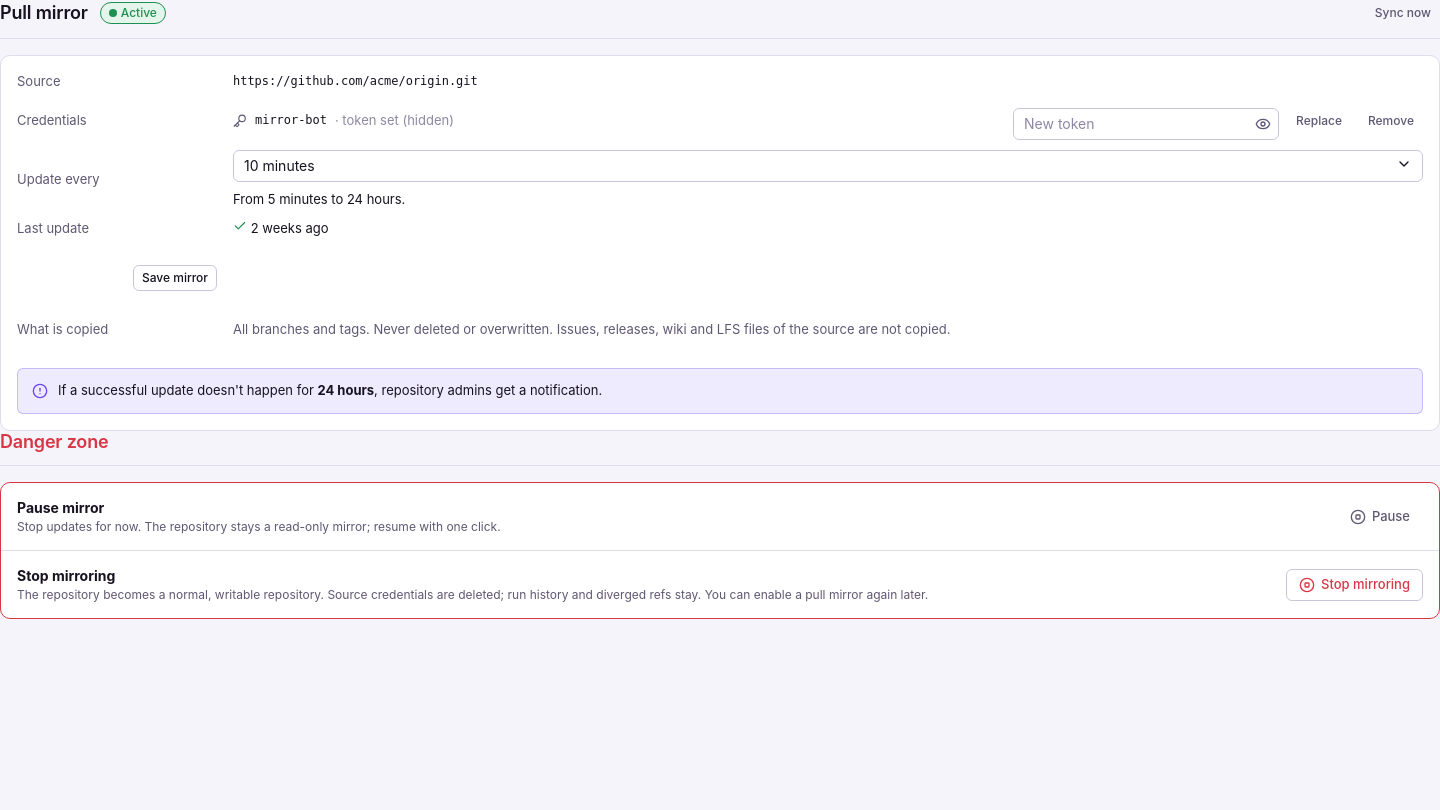
it: PullMirrorSection › cancella la conferma stop se si preme Cancel
Expected: the heading "Danger zone" is shown, left=0, top=430, right=108, bottom=453
Click the button "Stop mirroring": (1354, 584) left=1286, top=568, right=1423, bottom=600
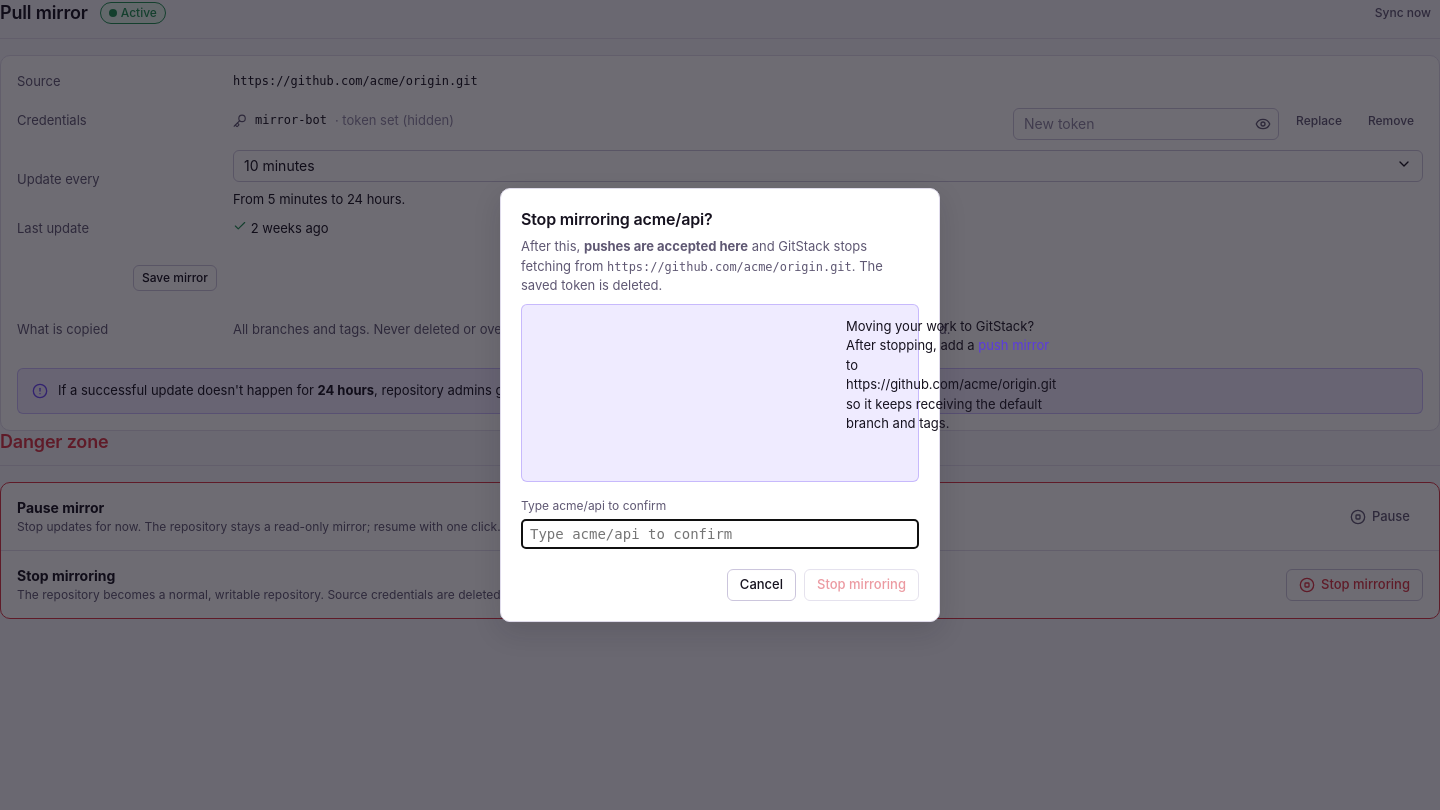
Click the button "Cancel": (762, 585) left=727, top=569, right=796, bottom=601
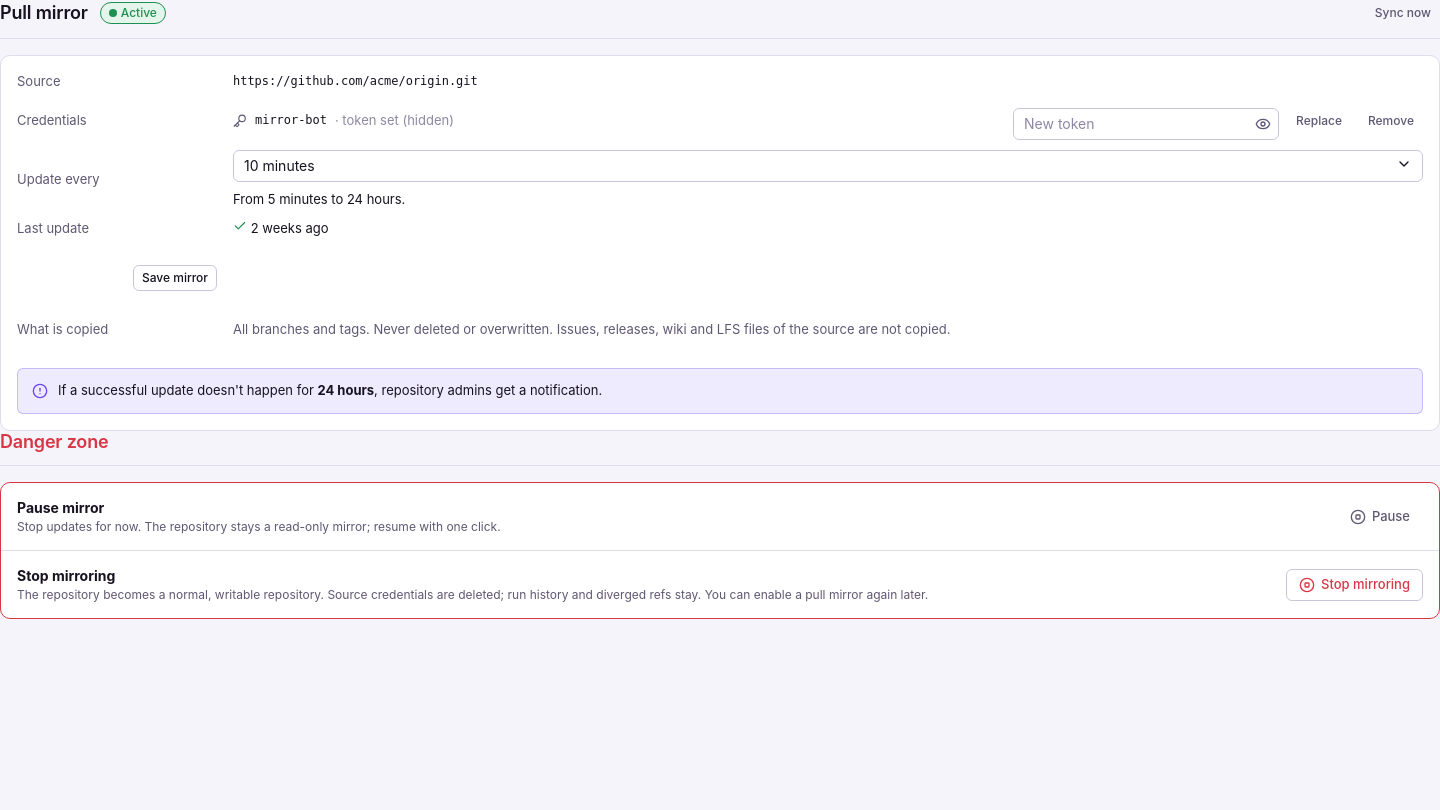
Now the dialog is gone
